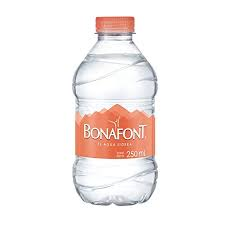Botella: (73, 17, 157, 204)
Botellas: (73, 17, 157, 205), (73, 17, 157, 204)
